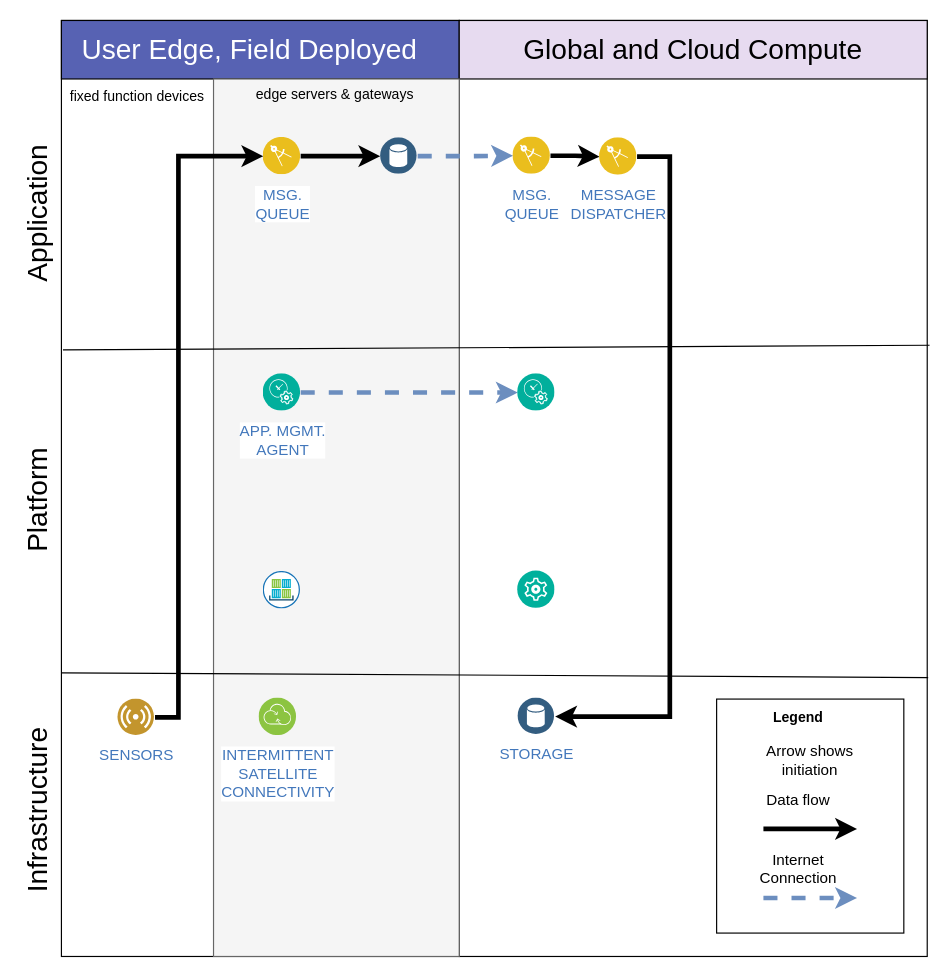
Image size: 951x977. Some labels were removed from this diagram. The shapes that lost their labels are listed below. From the top down, each one's centre as x and y in pixels, then its label:
At (398,155): "DATA FORWARDING".
At (536,392): "APP. MGMT.".
At (281,589): "CONTAINER ENGINE".
At (536,589): "CONTAINER CLUSTER".
